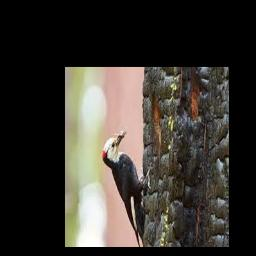Woodpecker: (103, 128, 153, 247)
